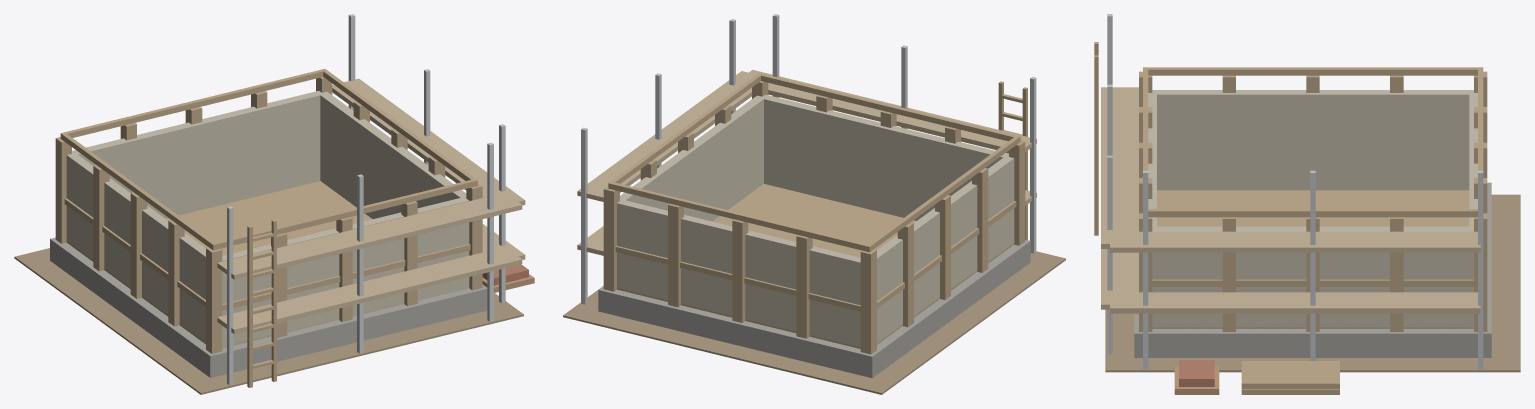
Rendered from sheep_pen_site_7.glb.
The picture shows the model from 3 angles, left to right: view 1: azimuth 30°, elevation 25°; view 2: azimuth 150°, elevation 25°; view 3: azimuth 270°, elevation 25°; orthographic projection. The views are drawn at different scales.
Parts seen in each view (by area): view 1: body; view 2: body; view 3: body.
Boxes of the visible parts, x1,y1,x2,y2 form: body: [14, 14, 534, 394]; body: [563, 14, 1065, 394]; body: [1094, 14, 1520, 394].
Size of the model in its own units: 2.1 by 0.9817 by 1.91.
